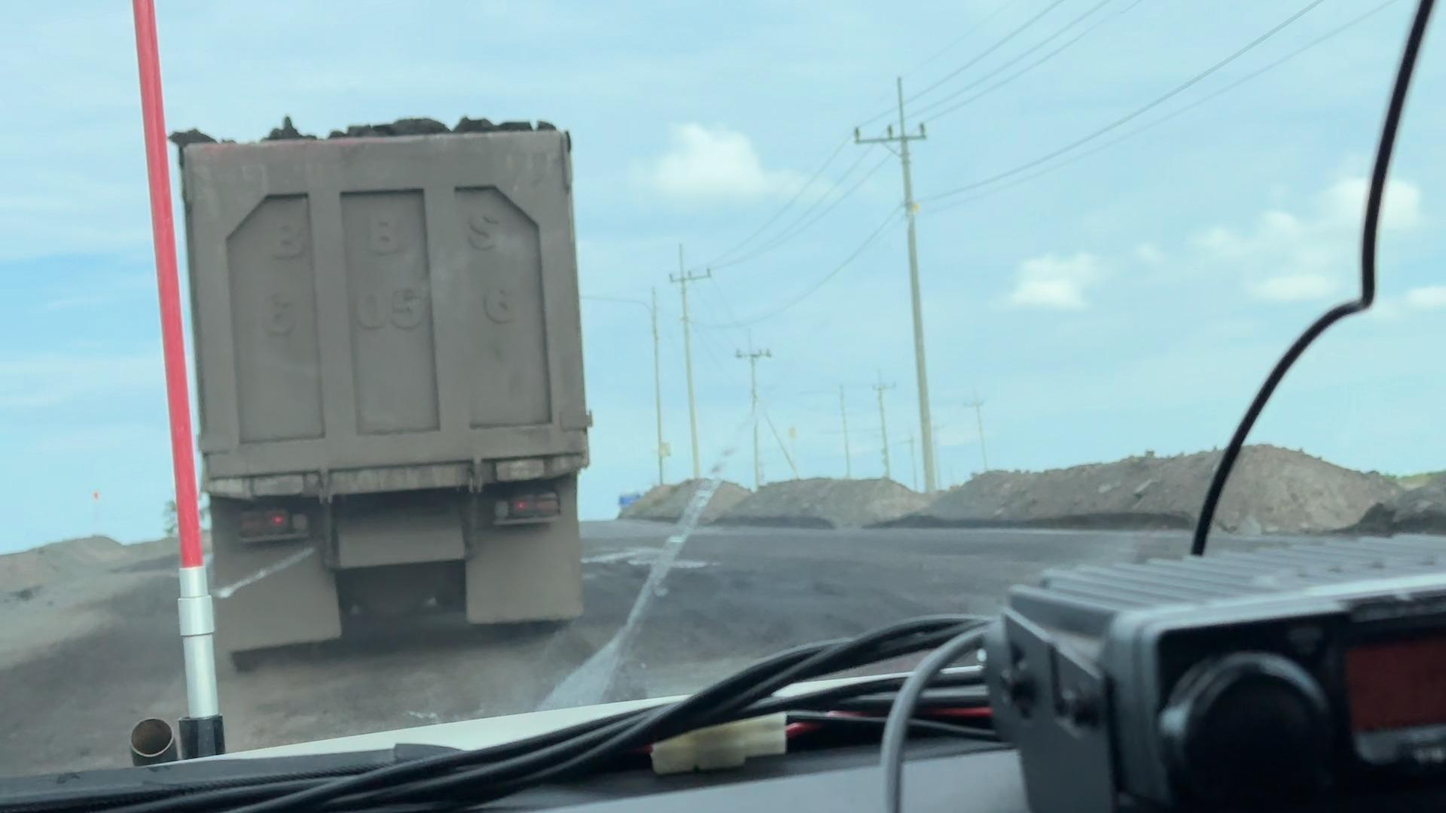Dump Truck: (172, 119, 591, 665)
